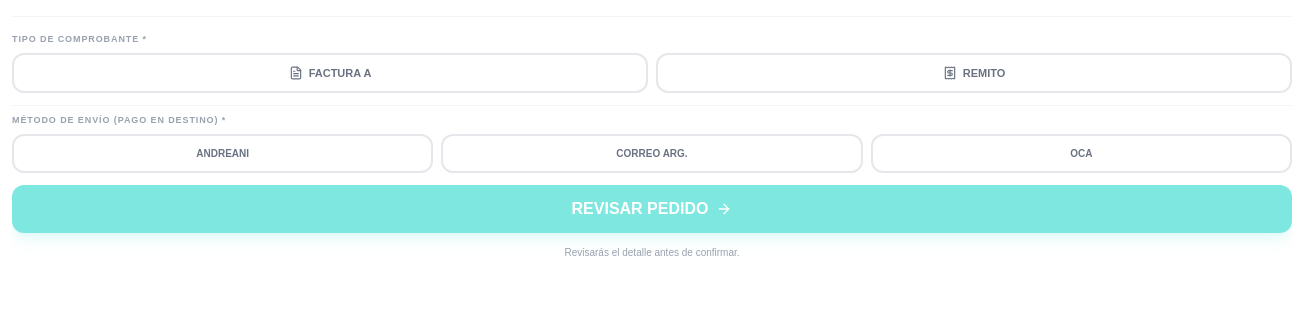
Cart Component (Checkout Action) › enables the checkout button when both tipoComprobante and metodoEnvio are selected
The image size is (1304, 332).
# Select Factura A
Click the button "Factura A": point(330, 73) [12,52,648,93]
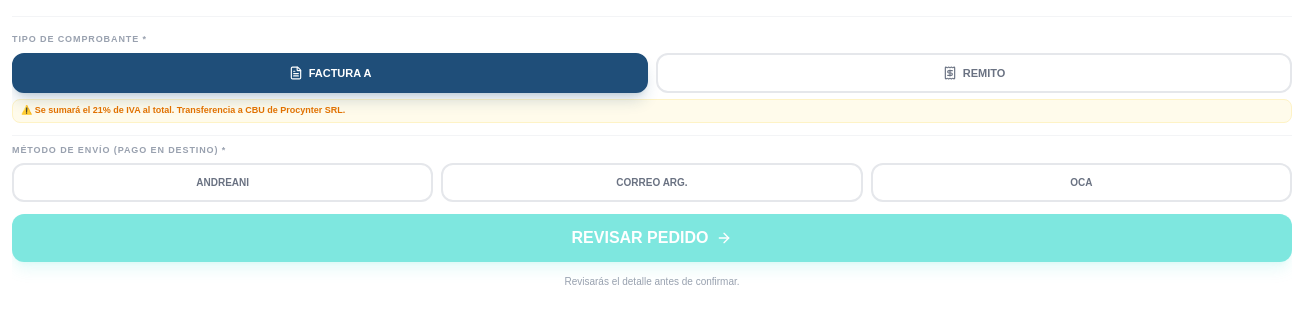
Expected: the button "REVISAR PEDIDO" is disabled, [12,214,1292,262]
# Select OCA
Click the button "OCA": point(1081, 182) [871,163,1292,202]
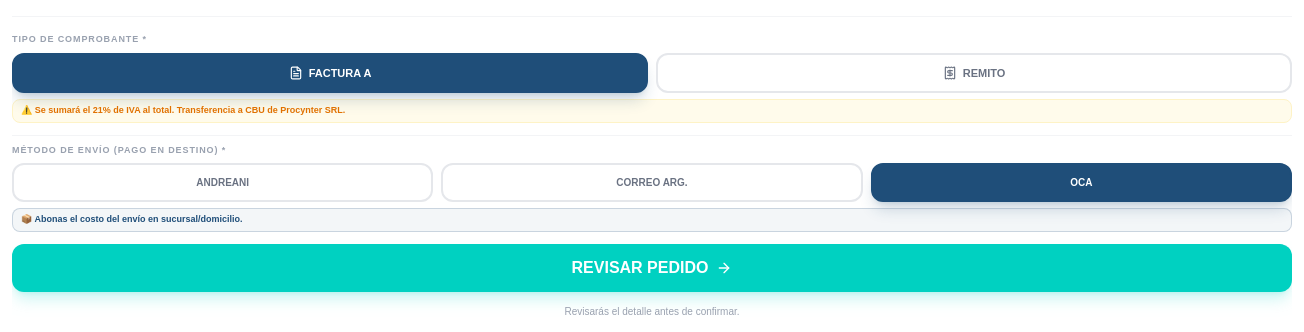
Now the button "REVISAR PEDIDO" is enabled, box [12,244,1292,292]
